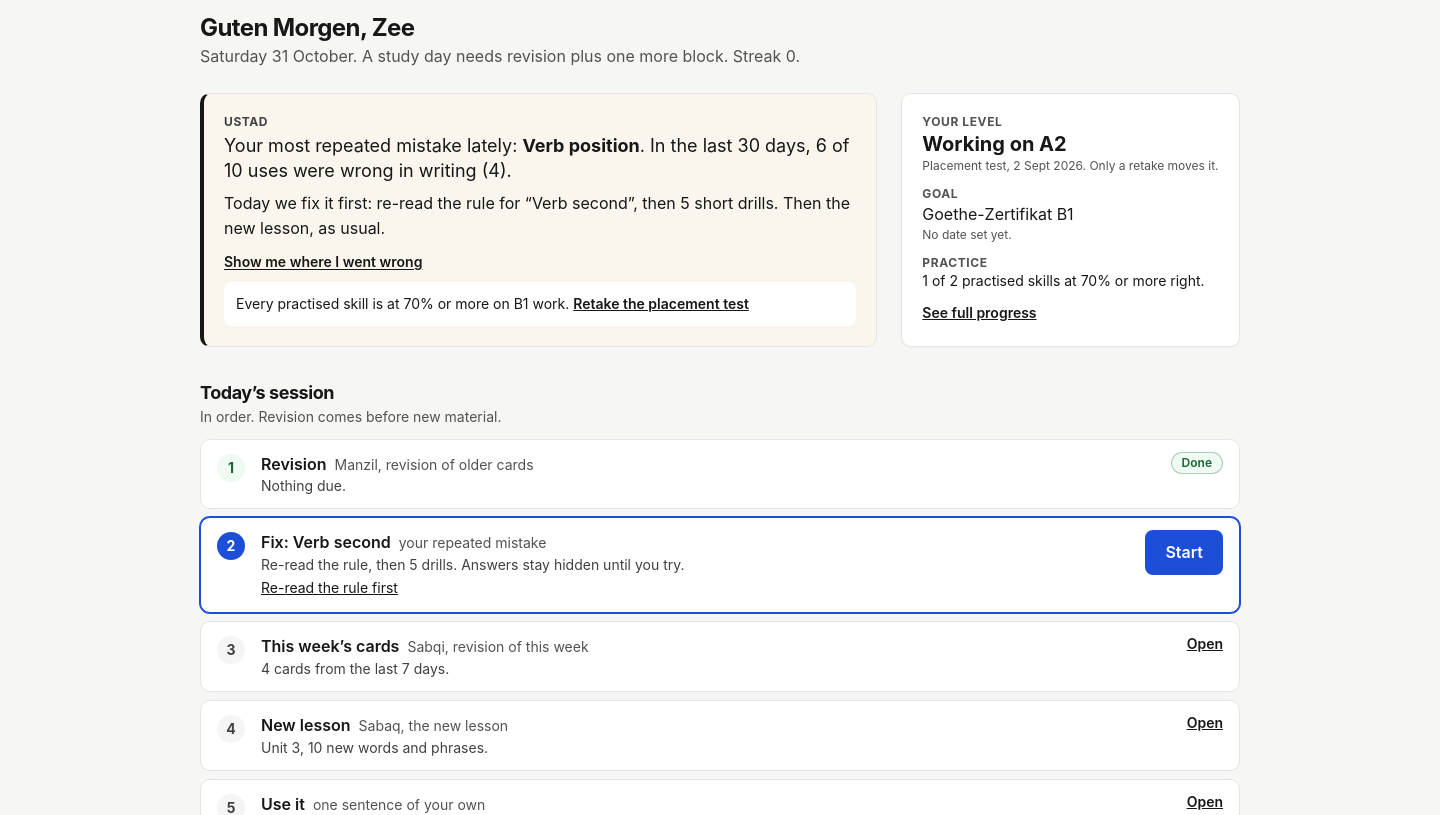
Test: Today: tutor note names the mistake in plain words, hides the sentence, puts the fix first
Expected: the text "Your most repeated mistake lately" is shown, [224,135,522,156]
Expected: the text "Verb position" is shown, [522,135,640,156]
Click the button "Show me where I went wrong" at (323,262), box [224,252,422,272]
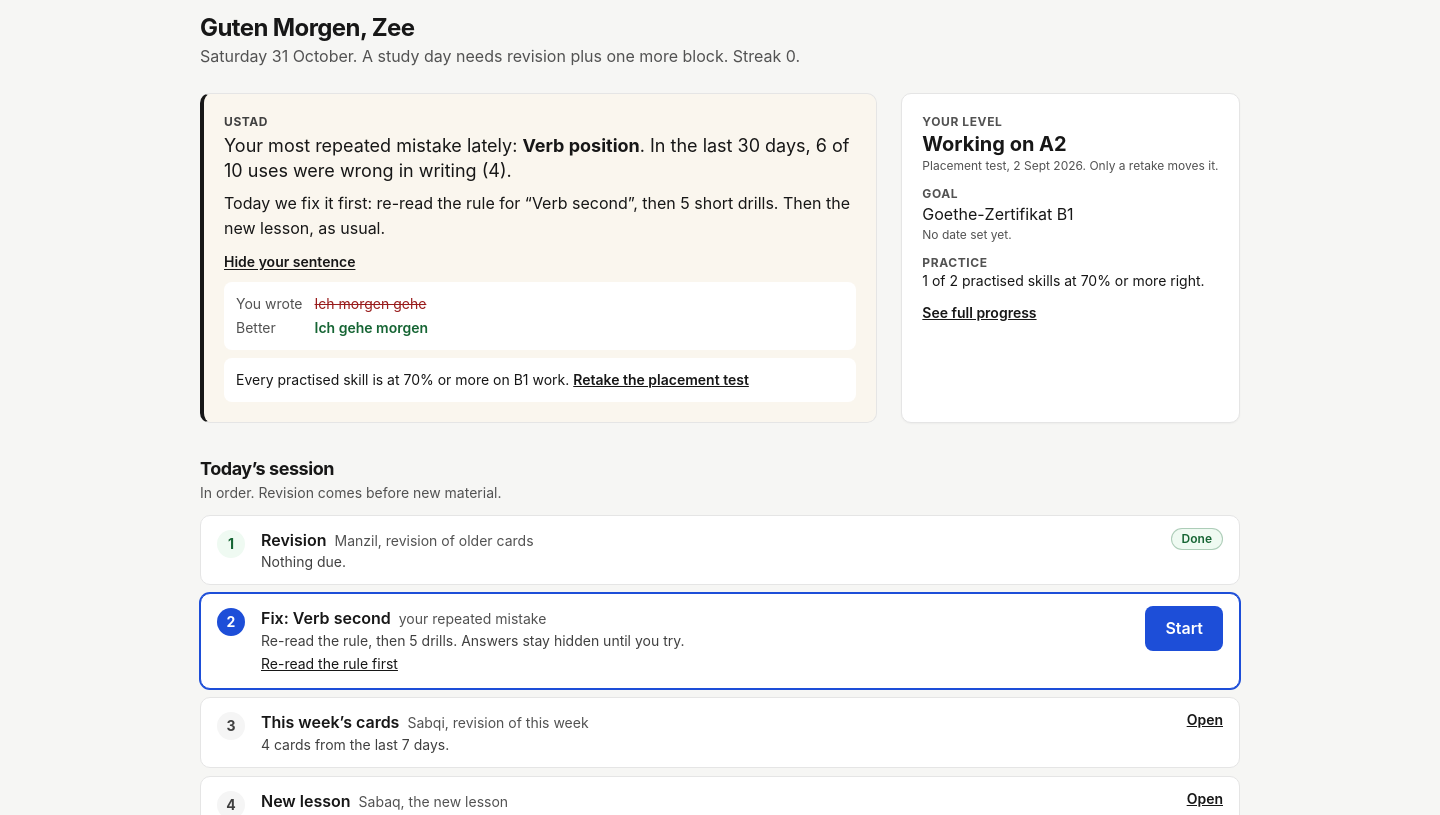
Expected: the list item that starts with "Fix: Verb second" is shown, [261,608,391,628]
Expected: the text "Ich morgen gehe" is shown, [314,295,426,312]
Expected: the text "Ich gehe morgen" is shown, [314,319,428,336]
